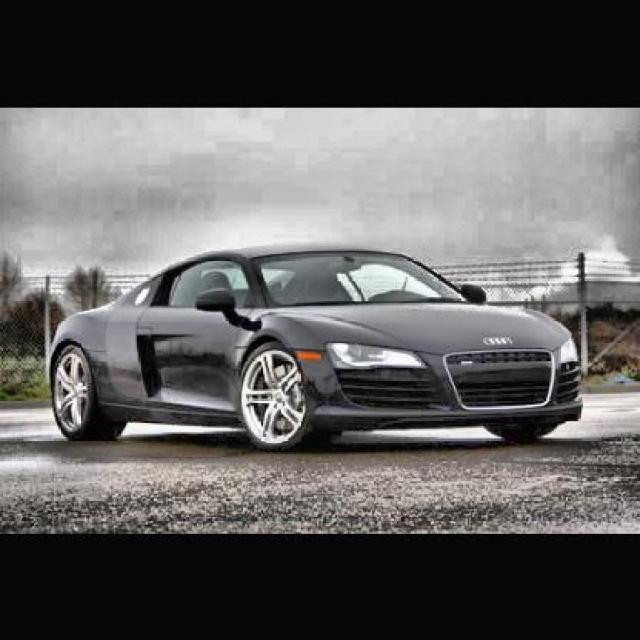black: (43, 236, 612, 453)
